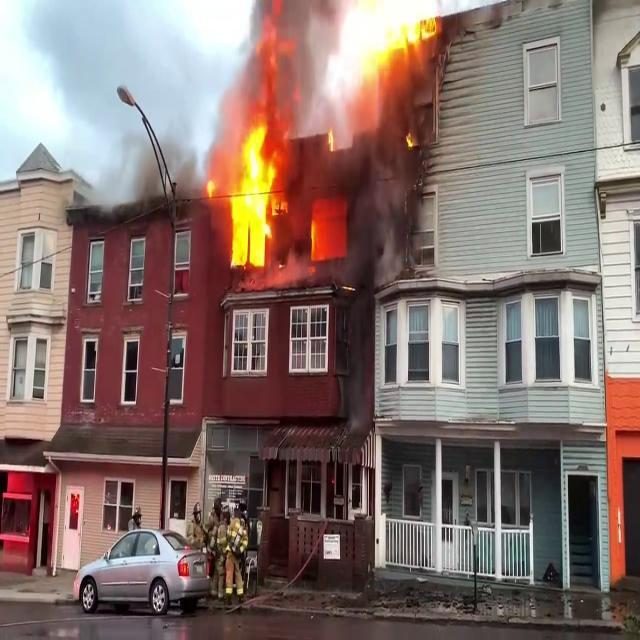Fire: (216, 111, 288, 276), (362, 0, 441, 87)
Smoke: (214, 0, 360, 125)
